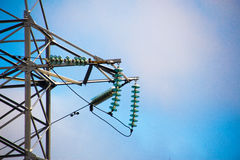isolator: (109, 67, 123, 111), (128, 84, 141, 128), (49, 55, 87, 67)
